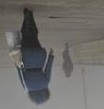person: (7, 6, 54, 107), (61, 43, 75, 79)
